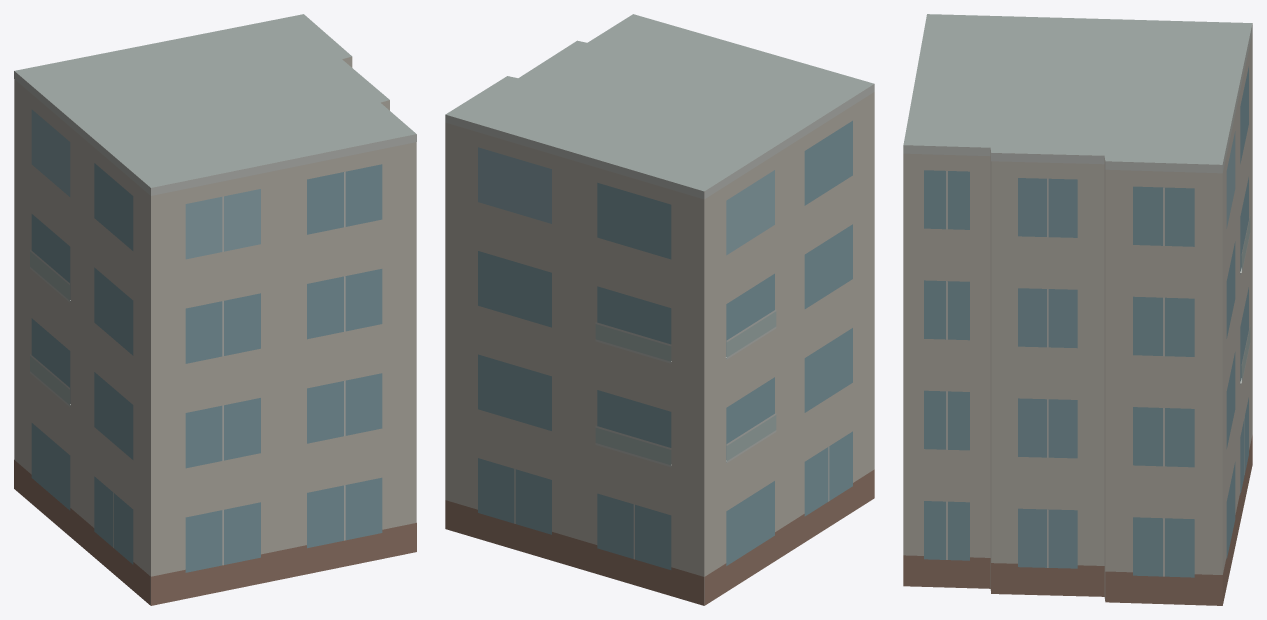
File: survey-upis-33012622.glb
3 renders of one model, left to right at view 1: azimuth 30°, elevation 25°; view 2: azimuth 150°, elevation 25°; view 3: azimuth 270°, elevation 25°, orthographic. The views are drawn at different scales.
Parts seen in each view (by area): view 1: survey-upis-33012622.tmp; view 2: survey-upis-33012622.tmp; view 3: survey-upis-33012622.tmp.
Boxes of the visible parts, bbox=[...] form: survey-upis-33012622.tmp: bbox=[14, 14, 416, 605]; survey-upis-33012622.tmp: bbox=[445, 14, 874, 605]; survey-upis-33012622.tmp: bbox=[903, 14, 1252, 605].
Size of the model in its own units: 9.35 by 12.73 by 9.15.
